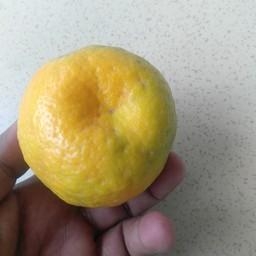Good_orange: (12, 42, 179, 210)
